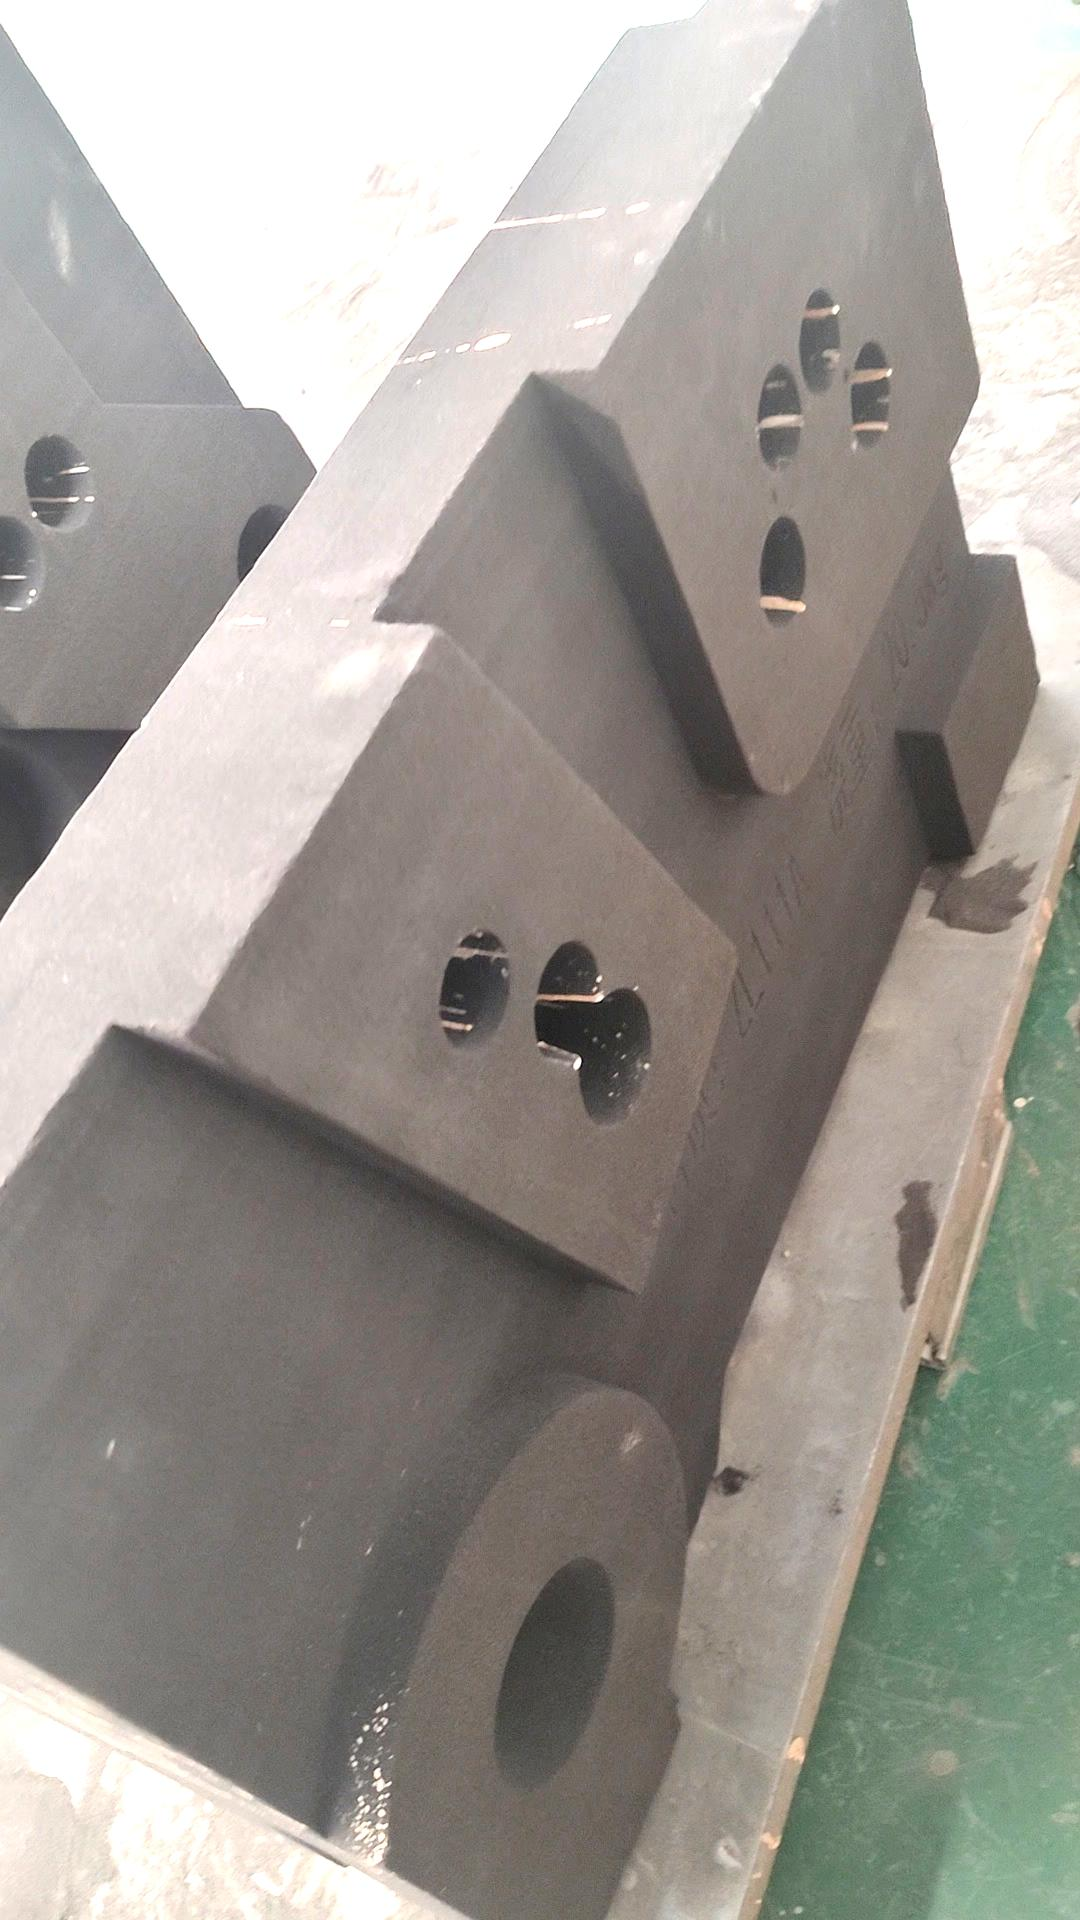pouring hole: (491, 1556, 618, 1793), (237, 504, 313, 595)
